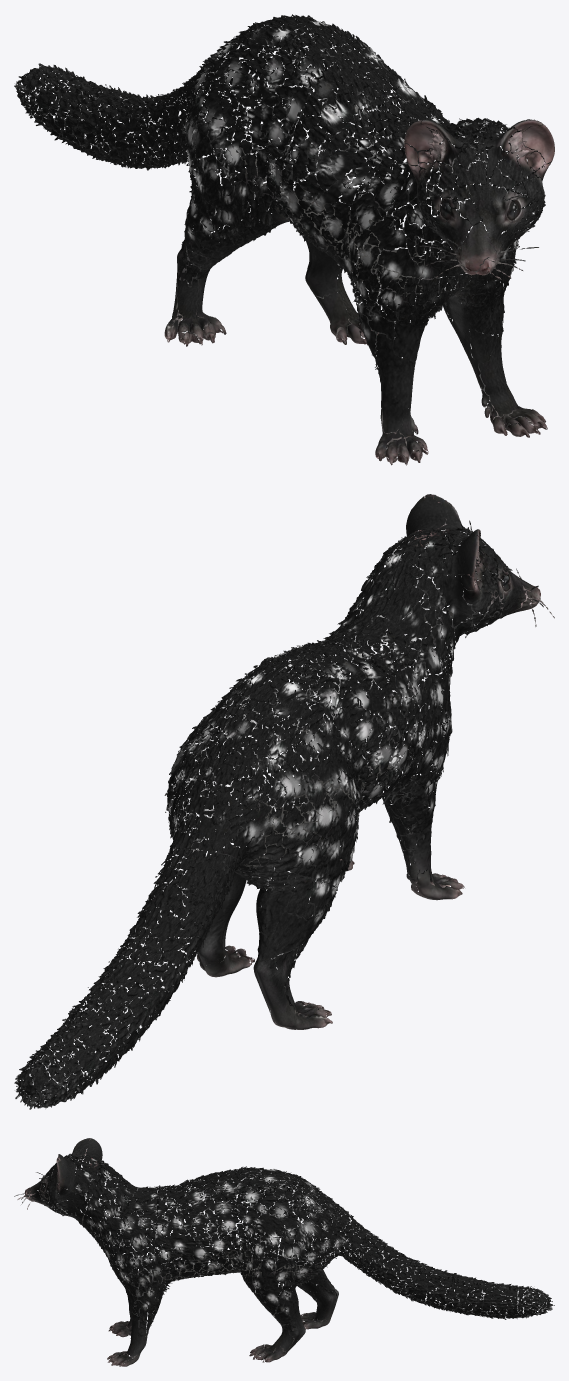
File: wild_life_eastern_quoll_optimized.glb
3 views of the same model, one above another, from view 1: azimuth 30°, elevation 25°; view 2: azimuth 150°, elevation 25°; view 3: azimuth 270°, elevation 25° (orthographic). The views are drawn at different scales.
Bounding box in the file's own units: 0.432 × 0.7495 × 1.9.
1 material, 1 textured.
